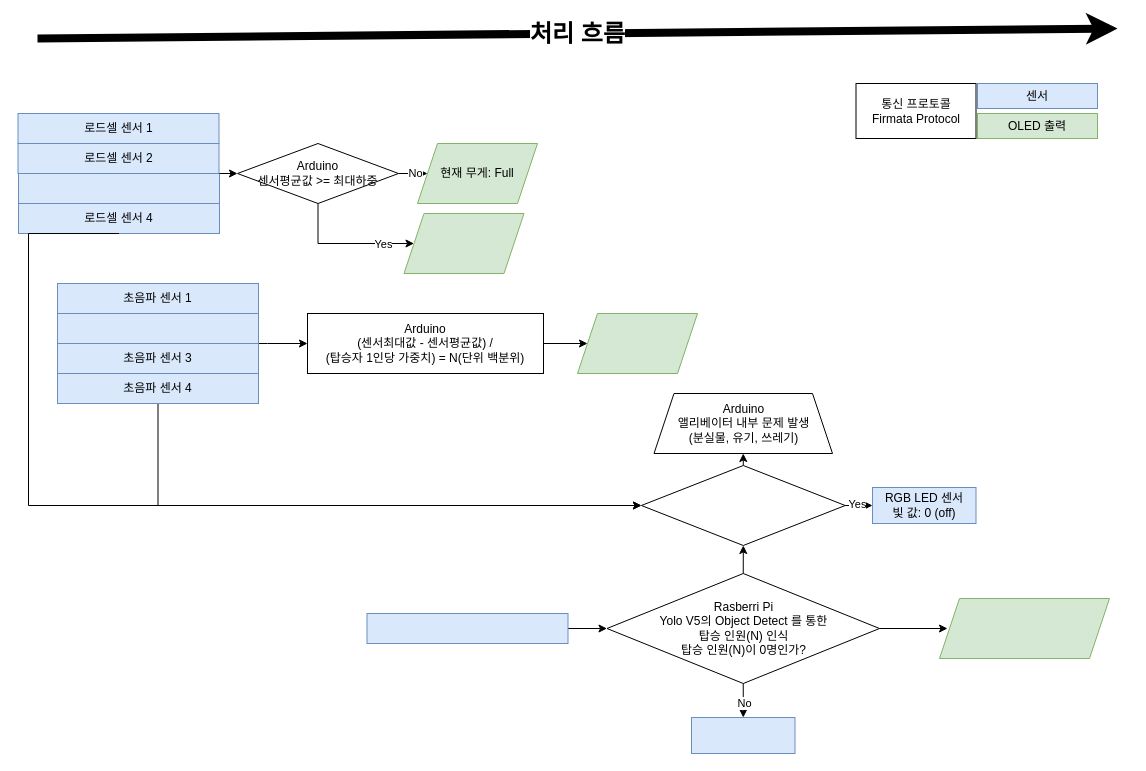
This 1146x771 diagram has some shape labels left out. Each missing label, with the centre of its shape:
"Arduino 로드셀 센서평균값 + 초음파센서 평균값 = 0" goes at point 742,505.
"RGB LED 센서 빛 값: 255 (on)" goes at point 742,735.
"로드셀 센서 3" goes at point 119,188.
"초음파 센서 2" goes at point 157,328.
"카메라 B0309 모듈" goes at point 467,628.
"포화도: N%" goes at point 637,343.
"현재 무게: Free" goes at point 463,243.
"현재 탑승 인원: N명" goes at point 1024,628.
